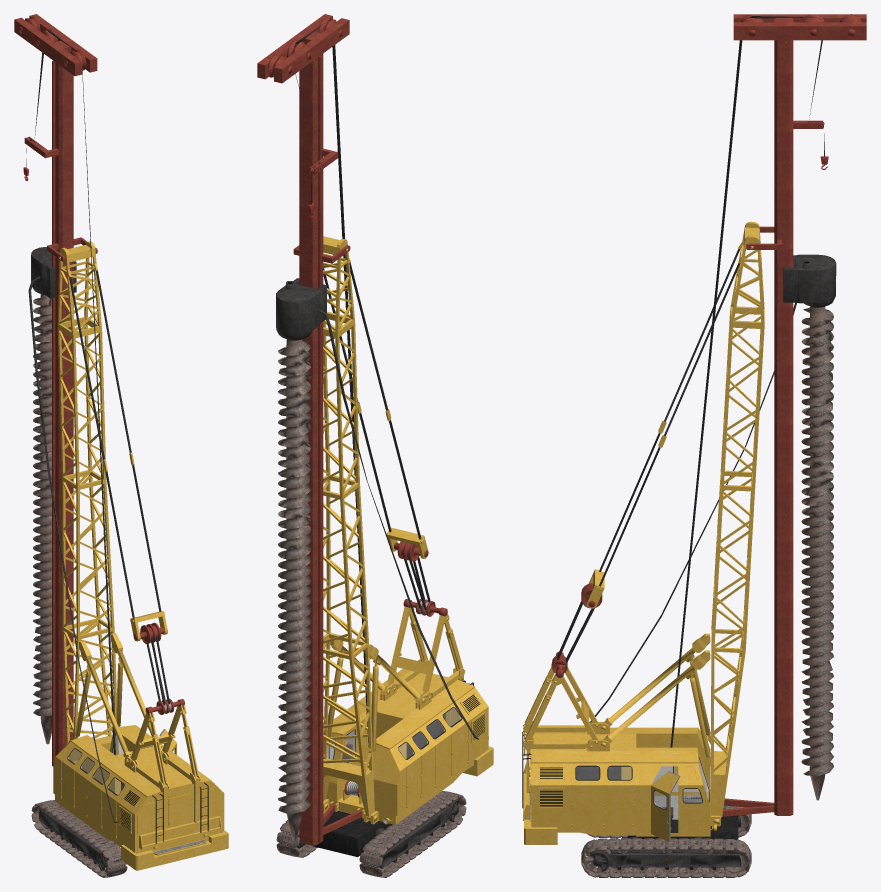
File: drill-rig-cfa.glb
3 renders of one model, left to right at view 1: azimuth 30°, elevation 25°; view 2: azimuth 150°, elevation 25°; view 3: azimuth 270°, elevation 25°, orthographic. The views are drawn at different scales.
Parts seen in each view (by area): view 1: crane_platform, rig_mast, boom, drill, cables_1, left_tracks, hook, fuel_pipe, chasis, left_piston_1, right_piston_1; view 2: crane_platform, rig_mast, drill, boom, left_tracks, chasis, cables_1, hook, fuel_pipe, right_tracks, left_piston_1, left_piston_2; view 3: crane_platform, rig_mast, drill, boom, right_tracks, chasis, cables_1, hook, cab_door, right_piston_1, left_piston_1, fuel_pipe.
Part boxes in pixels (<box>): crane_platform: <box>53,704,228,870</box>; rig_mast: <box>14,14,97,766</box>; boom: <box>57,241,118,754</box>; drill: <box>31,247,76,744</box>; cables_1: <box>69,270,170,705</box>; left_tracks: <box>31,800,127,877</box>; hook: <box>23,30,115,755</box>; fuel_pipe: <box>28,276,121,822</box>; chasis: <box>39,810,120,870</box>; left_piston_1: <box>79,640,130,762</box>; right_piston_1: <box>110,633,162,750</box>; crane_platform: <box>323,606,493,824</box>; rig_mast: <box>257,14,362,845</box>; drill: <box>276,278,326,841</box>; boom: <box>323,236,377,821</box>; left_tracks: <box>359,791,466,877</box>; chasis: <box>297,799,460,868</box>; cables_1: <box>323,262,430,609</box>; hook: <box>291,20,368,746</box>; fuel_pipe: <box>317,309,478,739</box>; right_tracks: <box>276,811,326,857</box>; left_piston_1: <box>364,644,425,702</box>; left_piston_2: <box>371,661,378,755</box>; crane_platform: <box>522,663,720,844</box>; rig_mast: <box>722,14,866,816</box>; drill: <box>783,254,836,800</box>; boom: <box>707,221,764,824</box>; right_tracks: <box>581,838,751,877</box>; chasis: <box>589,809,741,871</box>; cables_1: <box>556,248,739,663</box>; hook: <box>670,16,828,747</box>; cab_door: <box>650,771,680,842</box>; right_piston_1: <box>601,650,710,747</box>; left_piston_1: <box>601,633,710,730</box>; fuel_pipe: <box>589,302,796,722</box>.
Bounding box in the file's own units: 4.1 × 27 × 10.05.
Materials: 44 (34 with a texture image).
